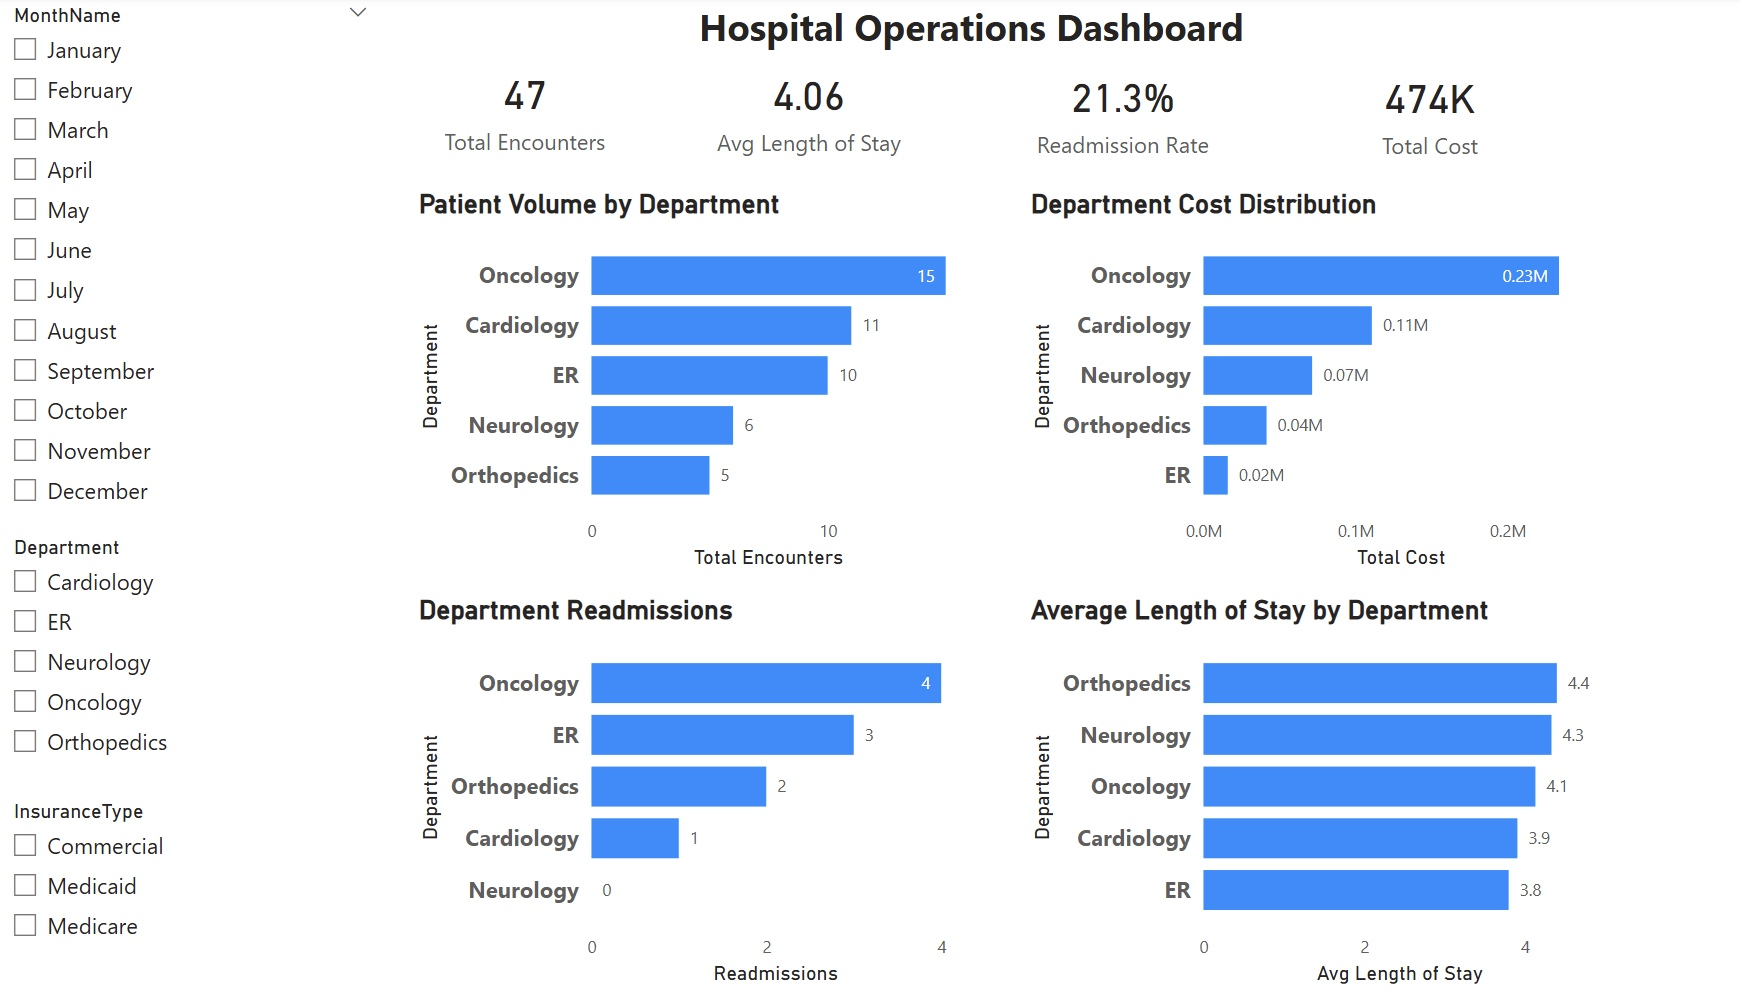

The dashboard page shown, as its layout file describes it:
{"tool":"powerbi","page":{"name":"Page 1","canvas":[1280,720],"ordinal":0},"visuals":[{"type":"card","fields":{"Values":["Encounters.Total Encounters"]},"box":[280.3,41.9,203.7,79.5],"z":0},{"type":"card","fields":{"Values":["Encounters.Total Cost"]},"box":[953.5,44.8,164.7,79.5],"z":1000},{"type":"card","fields":{"Values":["Encounters.Readmission Rate"]},"box":[705,44.8,218.1,78],"z":2000},{"type":"card","fields":{"Values":["Encounters.Avg Length of Stay"]},"box":[484,41.9,206.6,80.9],"z":3000},{"type":"slicer","fields":{"Values":["Departments.Department"]},"box":[0,385.7,278.8,190.7],"z":4000},{"type":"slicer","fields":{"Values":["Patients.InsuranceType"]},"box":[0,576.4,278.8,144.5],"z":5000},{"type":"slicer","fields":{"Values":["Calendar.MonthName"]},"box":[0,1.4,280.3,384.3],"z":6000},{"type":"clusteredBarChart","title":"Patient Volume by Department","fields":{"Category":["Departments.Department"],"Y":["Encounters.Total Encounters"]},"box":[300,140.4,397.6,279.4],"z":7000},{"type":"clusteredBarChart","title":"Department Readmissions","fields":{"Category":["Departments.Department"],"Y":["Encounters.Readmissions"]},"box":[300,433.1,405,286.7],"z":8000},{"type":"clusteredBarChart","title":"Department Cost Distribution","fields":{"Category":["Departments.Department"],"Y":["Encounters.Total Cost"]},"box":[742,140.4,434.5,279.4],"z":9000},{"type":"clusteredBarChart","title":"Average Length of Stay by Department","fields":{"Category":["Departments.Department"],"Y":["Encounters.Avg Length of Stay"]},"box":[742,433.1,422.7,286.7],"z":10000},{"type":"textbox","box":[502.8,0,408.8,50.6],"z":10001}]}

Visuals, with their boxes in screenshot pixels (x1, y1, x2, y2), scaled from the page's 1280x720 canvas onto the 1740x990 screenshot:
card - Encounters.Total Encounters: select_region(381, 58, 658, 167)
card - Encounters.Total Cost: select_region(1296, 62, 1520, 171)
card - Encounters.Readmission Rate: select_region(958, 62, 1255, 169)
card - Encounters.Avg Length of Stay: select_region(658, 58, 939, 169)
slicer - Departments.Department: select_region(0, 530, 379, 793)
slicer - Patients.InsuranceType: select_region(0, 793, 379, 989)
slicer - Calendar.MonthName: select_region(0, 2, 381, 530)
"Patient Volume by Department" clusteredBarChart: select_region(408, 193, 948, 577)
"Department Readmissions" clusteredBarChart: select_region(408, 596, 958, 989)
"Department Cost Distribution" clusteredBarChart: select_region(1009, 193, 1599, 577)
"Average Length of Stay by Department" clusteredBarChart: select_region(1009, 596, 1583, 989)
textbox: select_region(683, 0, 1239, 70)
